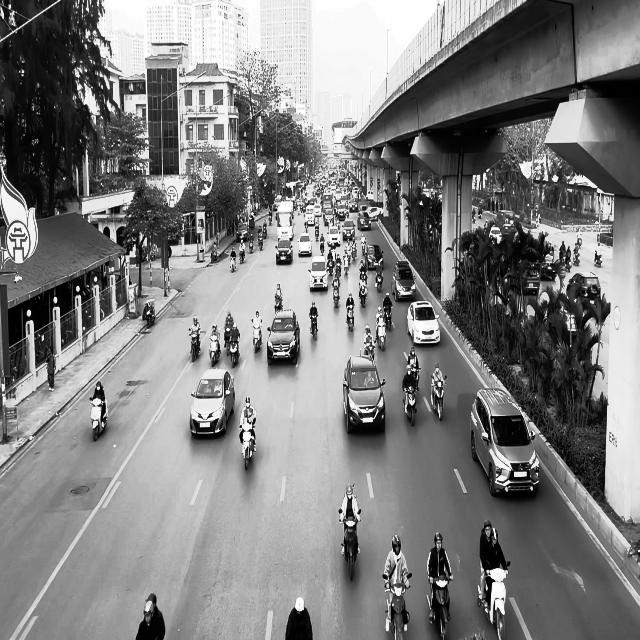car: (470, 388, 540, 497), (342, 353, 386, 434), (190, 368, 235, 437), (266, 308, 300, 366), (406, 300, 441, 345), (566, 271, 601, 303), (391, 261, 416, 301), (308, 255, 328, 291), (274, 238, 292, 264)
motorbike: (477, 560, 510, 640), (382, 572, 412, 640), (338, 508, 361, 582), (427, 575, 453, 639), (89, 396, 108, 441), (239, 422, 256, 470), (430, 375, 447, 420), (227, 334, 240, 367), (188, 329, 201, 361), (251, 318, 262, 353), (209, 334, 221, 366), (144, 299, 155, 327), (309, 314, 318, 340), (346, 305, 354, 332), (594, 251, 602, 267)
